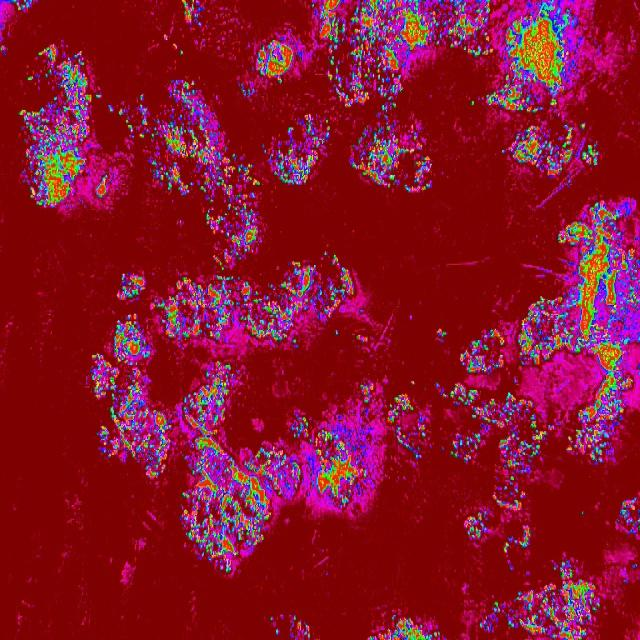fire: (19, 44, 94, 214), (559, 199, 640, 355), (178, 437, 270, 573), (311, 0, 497, 58), (152, 80, 236, 202), (502, 0, 582, 111), (163, 272, 271, 348), (272, 252, 356, 346), (348, 114, 432, 194), (106, 318, 152, 460), (504, 584, 604, 640), (308, 424, 370, 508), (262, 112, 332, 186), (489, 391, 547, 471), (326, 55, 404, 109), (181, 360, 235, 434), (204, 200, 260, 270), (563, 408, 626, 466), (501, 124, 574, 174), (520, 294, 560, 368), (386, 394, 427, 460), (587, 353, 635, 408), (460, 327, 506, 374), (254, 38, 298, 83), (361, 617, 442, 640), (448, 380, 488, 420), (270, 444, 301, 494), (490, 473, 528, 512), (614, 494, 640, 538), (446, 432, 480, 462), (236, 160, 260, 200), (152, 406, 168, 460), (116, 270, 144, 300), (88, 352, 106, 396), (464, 509, 488, 541), (180, 0, 203, 26), (138, 92, 150, 138), (290, 414, 308, 444), (118, 106, 134, 139), (94, 169, 110, 201), (579, 142, 600, 166), (290, 617, 311, 640), (144, 459, 166, 480), (94, 424, 109, 454), (556, 562, 576, 583), (486, 88, 502, 108), (518, 524, 530, 548), (10, 0, 32, 12), (360, 382, 372, 402), (477, 617, 490, 633), (356, 332, 369, 347), (493, 599, 501, 616), (434, 328, 446, 338), (152, 298, 164, 308), (0, 43, 8, 56), (438, 390, 448, 400), (502, 542, 510, 554), (409, 378, 418, 388), (95, 90, 102, 102), (580, 120, 588, 130), (274, 628, 282, 638), (108, 102, 115, 113), (548, 422, 554, 433), (578, 509, 585, 518), (470, 98, 476, 108), (268, 614, 274, 624), (178, 47, 184, 57)
